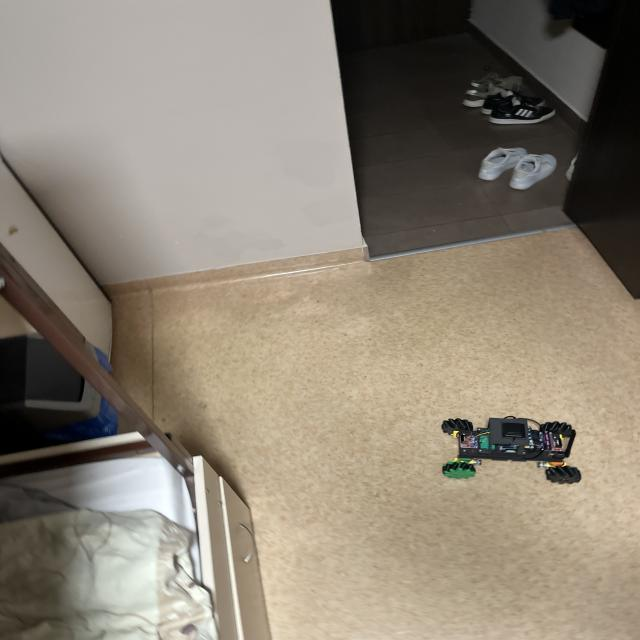robot: (441, 416, 581, 484)
